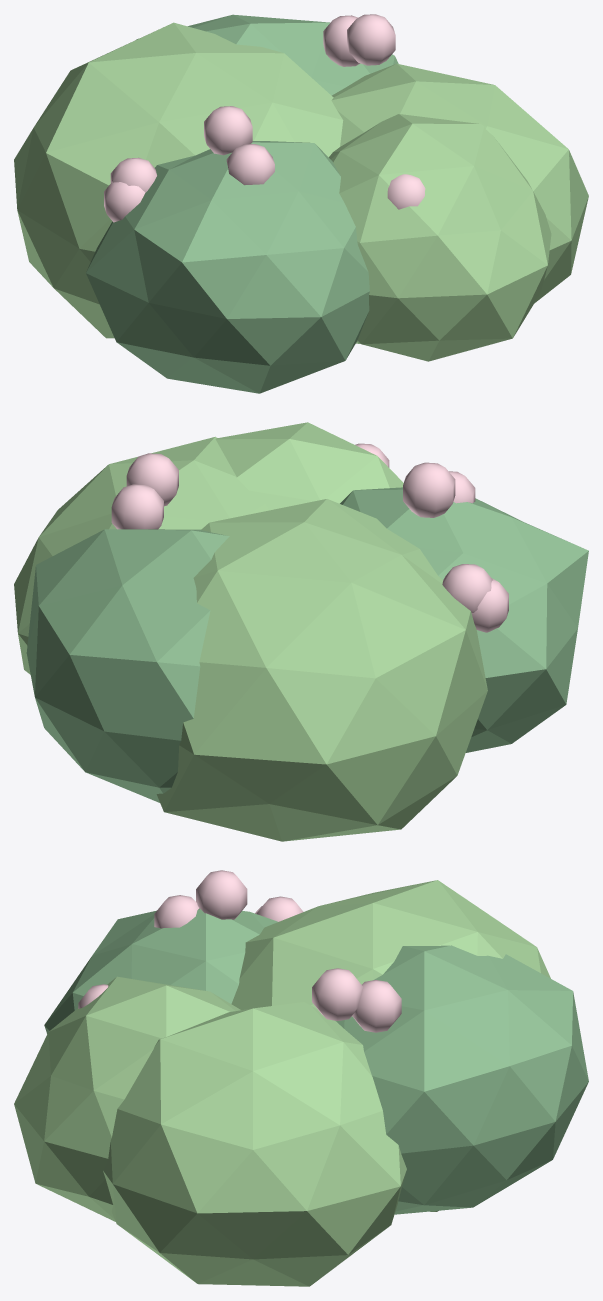
File: bush_flower_pink.glb
3 renders of one model, top to bottom at view 1: azimuth 30°, elevation 25°; view 2: azimuth 150°, elevation 25°; view 3: azimuth 270°, elevation 25°, orthographic. The views are drawn at different scales.
Visible parts, largest first — view 1: bush_flower_pink; view 2: bush_flower_pink; view 3: bush_flower_pink.
Part boxes in pixels (x1,y1,x2,y2): bush_flower_pink: [14, 14, 588, 393]; bush_flower_pink: [14, 422, 588, 841]; bush_flower_pink: [14, 870, 588, 1286].
Size of the model in its own units: 1.24 by 0.7098 by 1.28.
